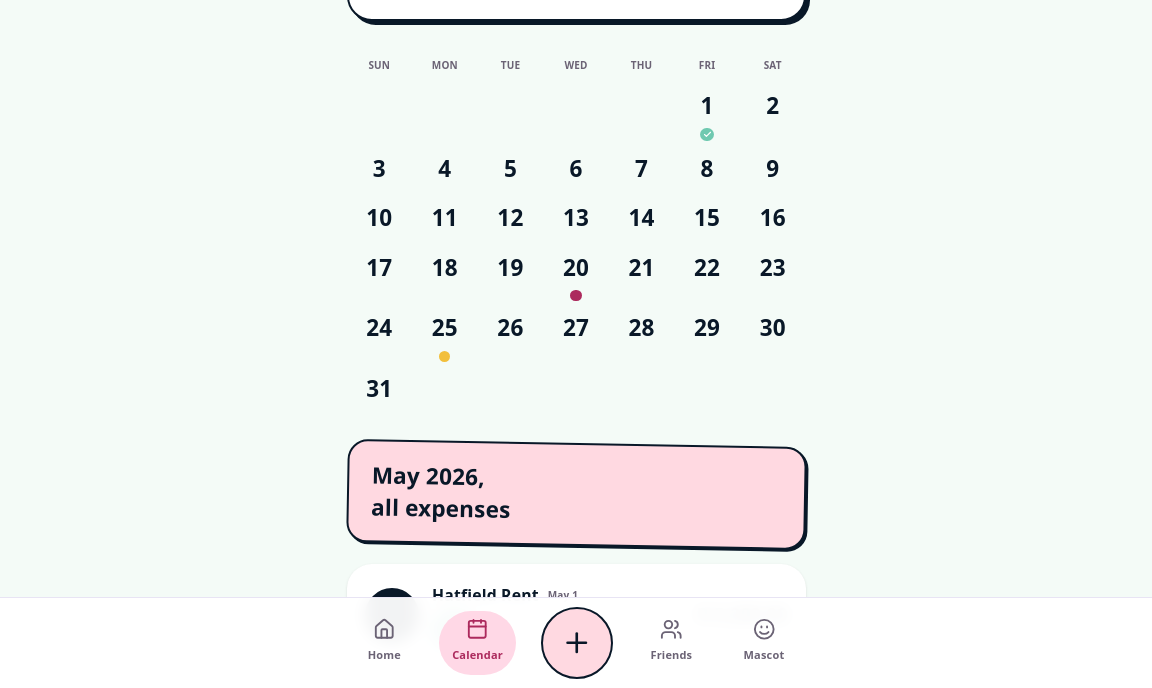
Scenario: CalendarPage › deselects the date when clicked again, returning to all-expenses view
(page scrolled)
Click the button named "May 25": (445, 328) [422,306,467,350]
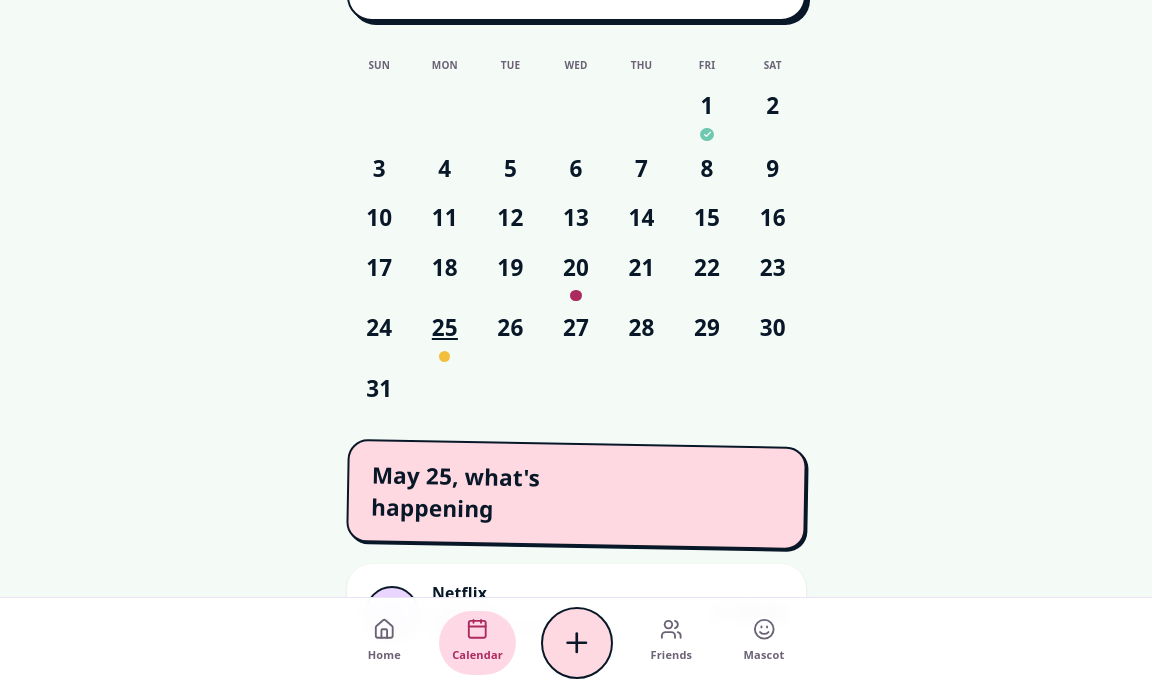
Click the button named "May 25": (445, 328) [422,306,467,350]
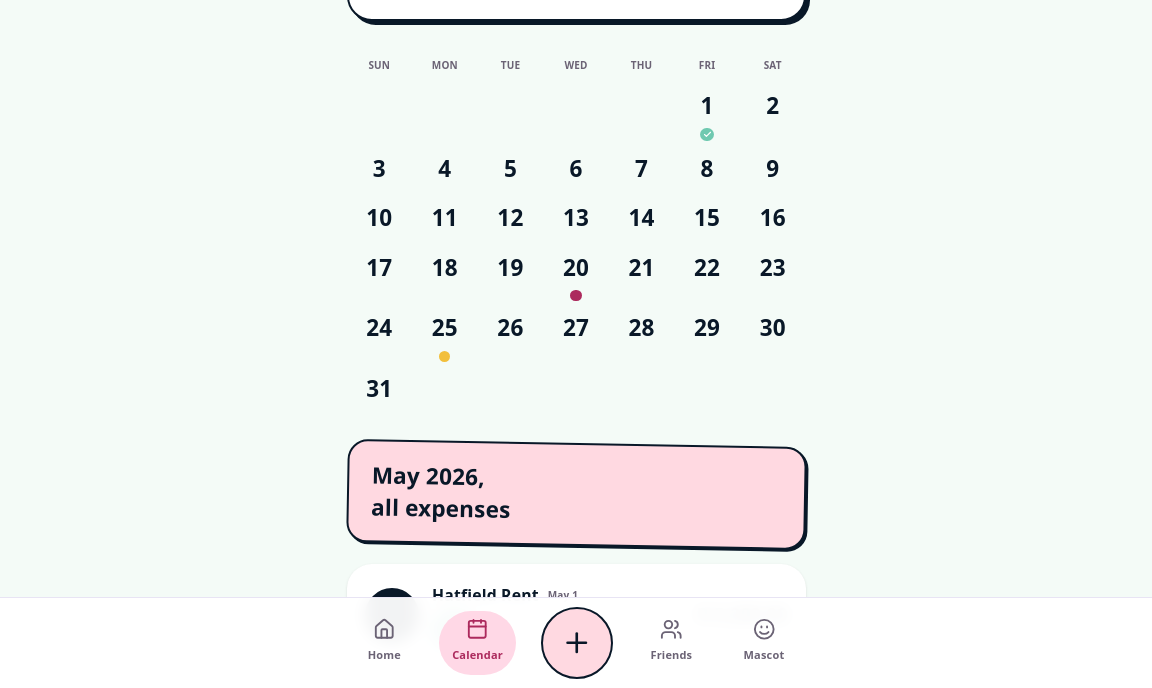
Expected: the element named "showing all expenses" is shown, [370,459,510,524]
